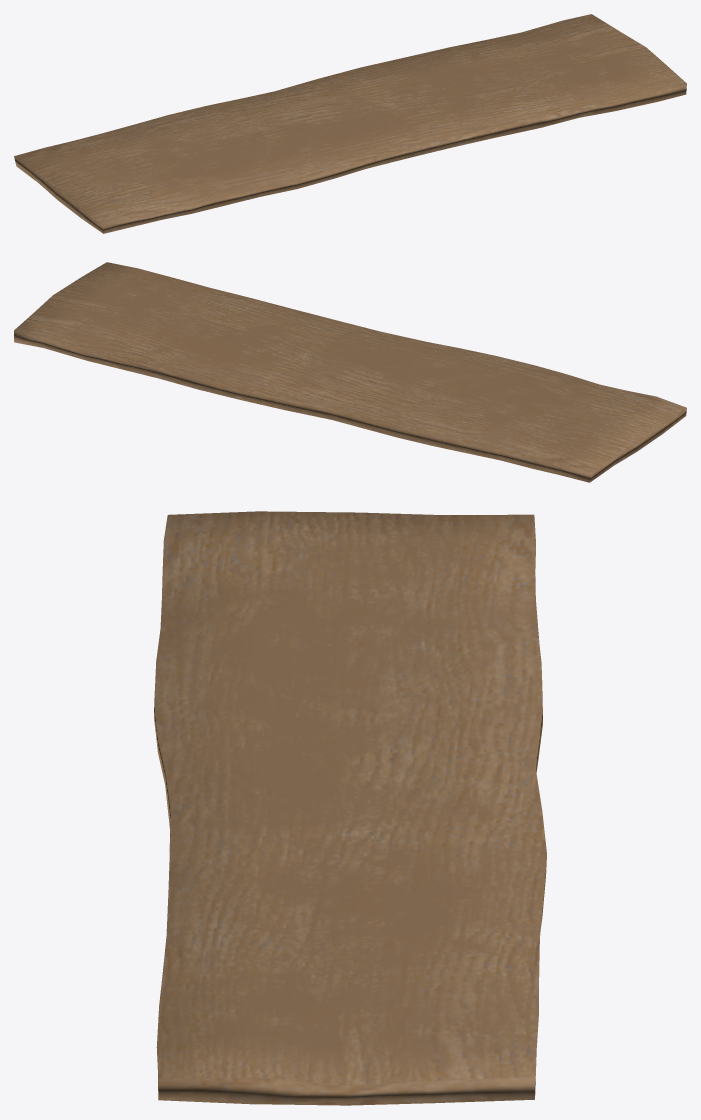
The model's file is wooden_plank.glb.
3 views of the same model, one above another, from view 1: azimuth 30°, elevation 25°; view 2: azimuth 150°, elevation 25°; view 3: azimuth 270°, elevation 25° (orthographic). The views are drawn at different scales.
Visible parts, largest first — view 1: wood_plank_low; view 2: wood_plank_low; view 3: wood_plank_low.
Part boxes in pixels (left/top/right/bottom): wood_plank_low: left=14, top=14, right=686, bottom=233; wood_plank_low: left=14, top=262, right=686, bottom=482; wood_plank_low: left=154, top=511, right=546, bottom=1105.
Bounding box in the file's own units: 1.66 × 0.0393 × 0.481.
Materials: 1 (1 with a texture image).
